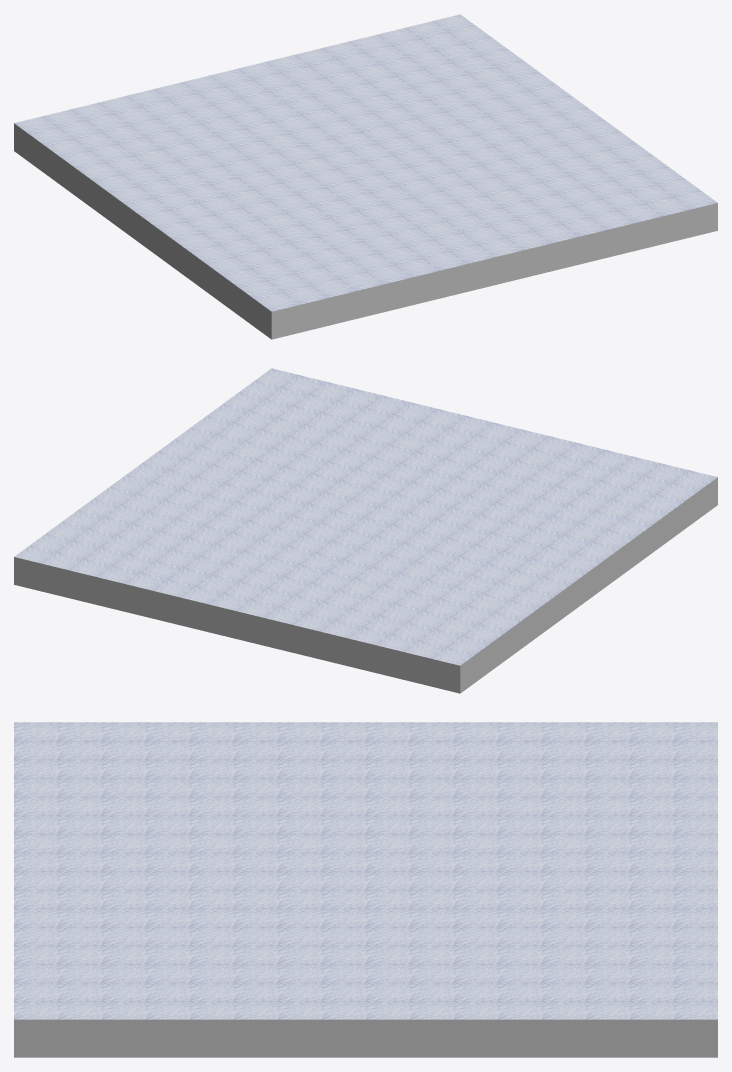
File: snowground.obj
3 views of the same model, one above another, from view 1: azimuth 30°, elevation 25°; view 2: azimuth 150°, elevation 25°; view 3: azimuth 270°, elevation 25° (orthographic). The views are drawn at different scales.
Parts seen in each view (by area): view 1: Cube.001_Cube.002; view 2: Cube.001_Cube.002; view 3: Cube.001_Cube.002.
Boxes of the visible parts, left/top/right/bottom form: Cube.001_Cube.002: left=14, top=14, right=717, bottom=339; Cube.001_Cube.002: left=14, top=368, right=717, bottom=693; Cube.001_Cube.002: left=14, top=722, right=717, bottom=1057.
Bounding box in the file's own units: 293 × 17.5 × 293.
